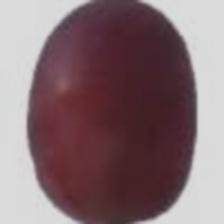grapes: (17, 28, 179, 207)
